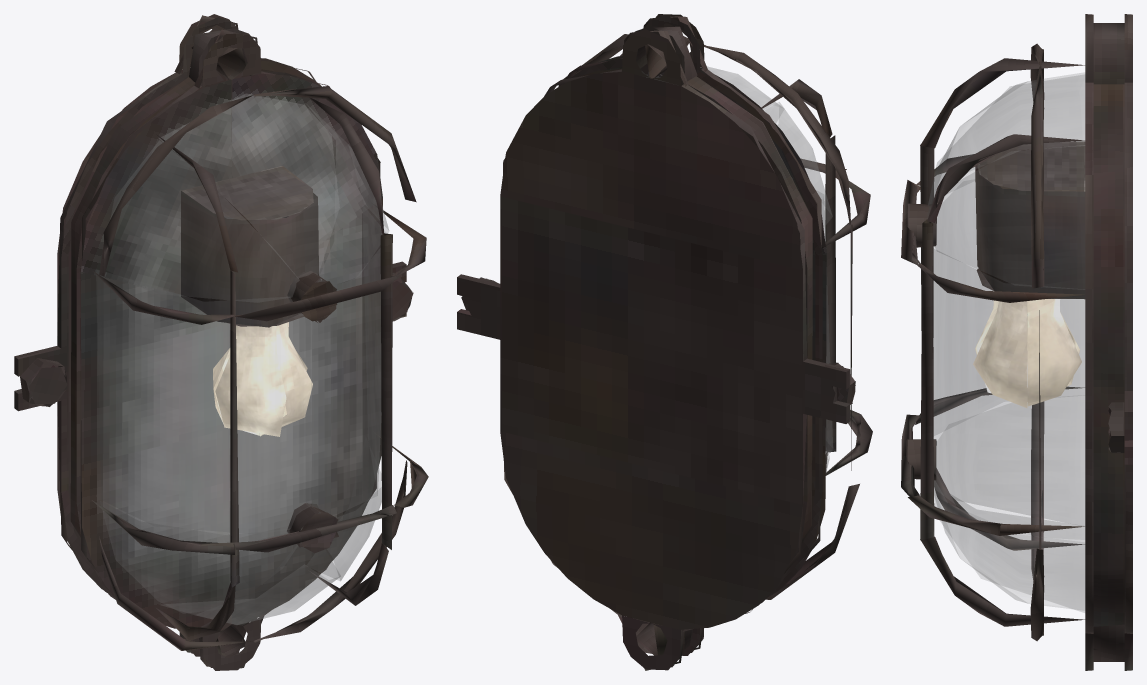
File: industrial_wall_lamp.glb
The picture shows the model from 3 angles, left to right: view 1: azimuth 30°, elevation 25°; view 2: azimuth 150°, elevation 25°; view 3: azimuth 270°, elevation 25°; orthographic projection.
Parts seen in each view (by area): view 1: industrial_wall_lamp; view 2: industrial_wall_lamp; view 3: industrial_wall_lamp.
Boxes of the visible parts, x1=… form: industrial_wall_lamp: x1=14, y1=14, x2=428, y2=670; industrial_wall_lamp: x1=457, y1=14, x2=872, y2=670; industrial_wall_lamp: x1=901, y1=14, x2=1132, y2=670.
Bounding box in the file's own units: 0.2737 × 0.432 × 0.1397.
2 materials, 2 textured.
